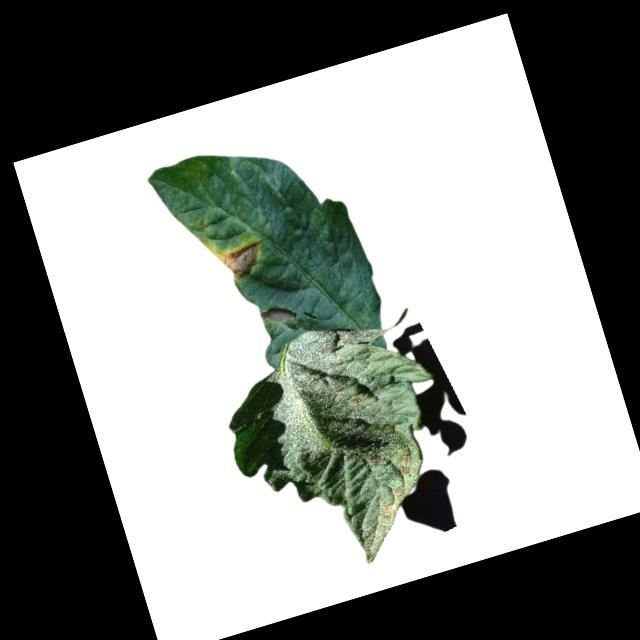Early_blight: (216, 241, 267, 284), (392, 483, 408, 498), (368, 453, 385, 467), (398, 462, 412, 478), (401, 452, 415, 465)
